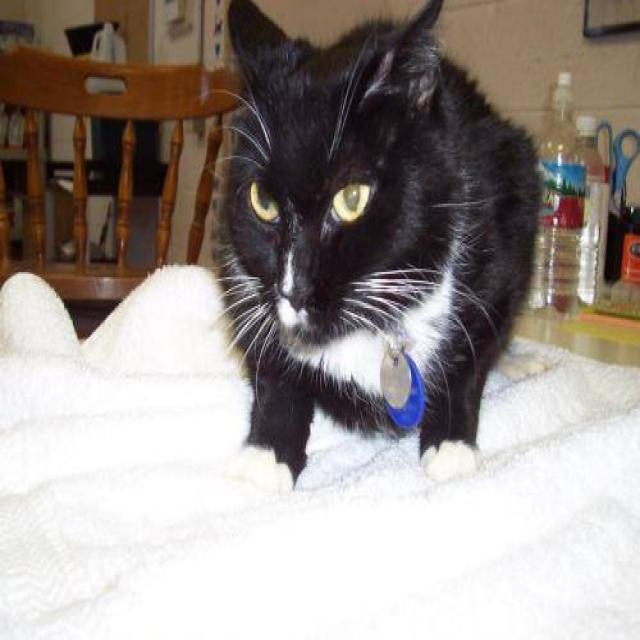cat: (207, 0, 543, 491)
